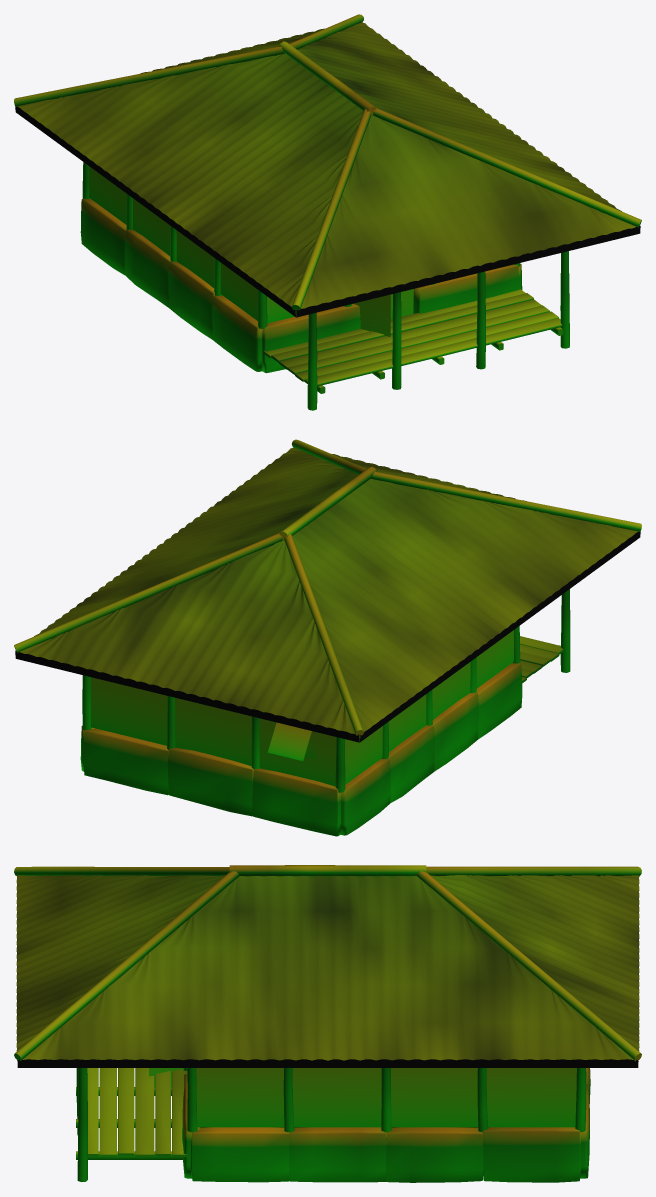
The model's file is house_tile_a.glb.
The picture shows the model from 3 angles, top to bottom: view 1: azimuth 30°, elevation 25°; view 2: azimuth 150°, elevation 25°; view 3: azimuth 270°, elevation 25°; orthographic projection. The views are drawn at different scales.
Parts seen in each view (by area): view 1: house_tile_a; view 2: house_tile_a; view 3: house_tile_a.
Part boxes in pixels (<box>): house_tile_a: <box>14,14,641,410</box>; house_tile_a: <box>14,439,641,836</box>; house_tile_a: <box>14,865,641,1182</box>.
Size of what is drawn, in the model's own units: 6.91 by 4.22 by 9.71.
